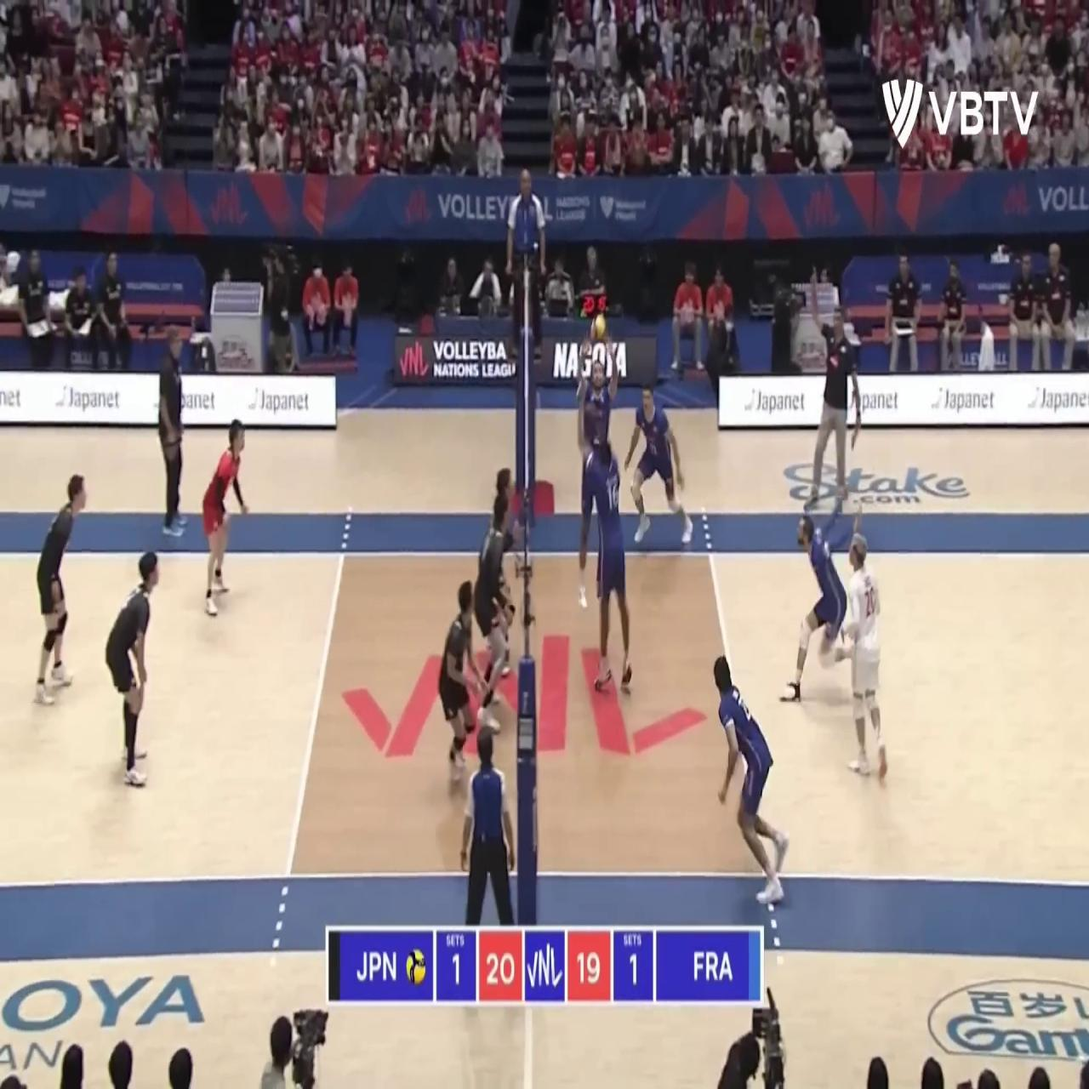ball: (589, 315, 606, 345)
